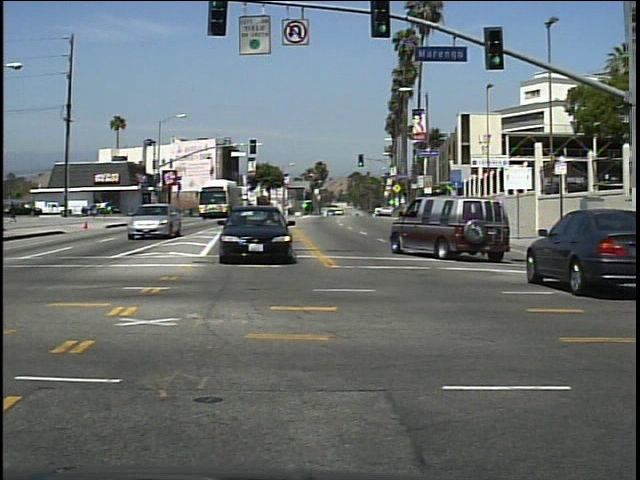person: (6, 198, 22, 227)
